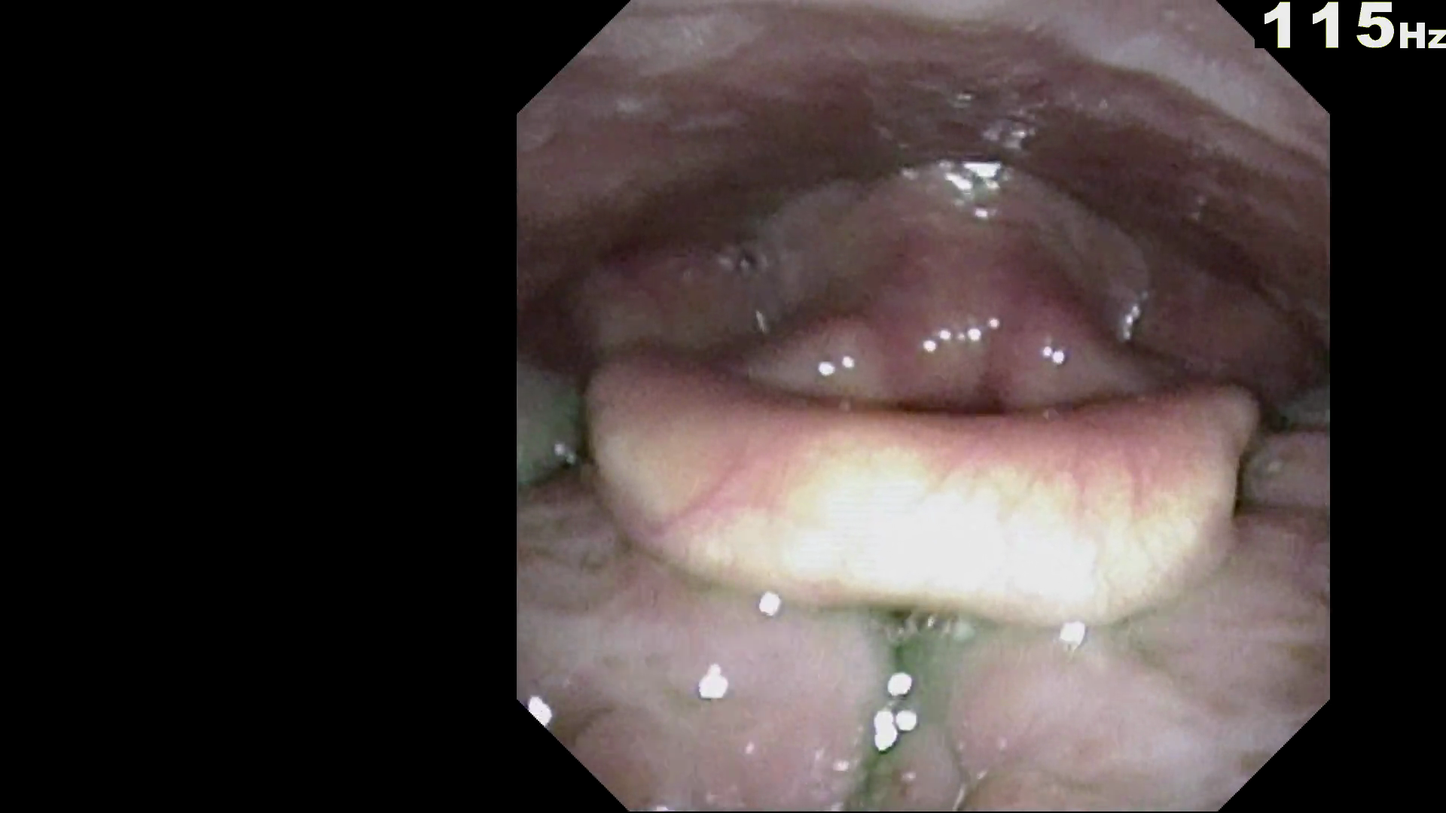epiglottis: (556, 327, 1279, 588)
trachea: (922, 339, 1046, 481), (859, 355, 1045, 447)
